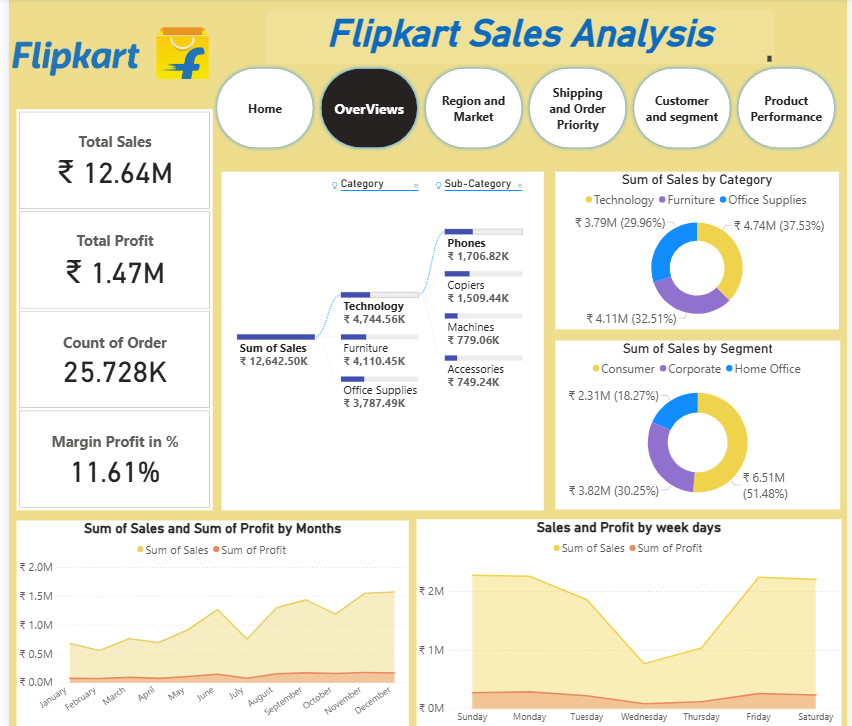

This screenshot's page, from the dashboard's own definition file:
{"tool":"powerbi","page":{"name":"OverViews ","canvas":[1600,1400],"ordinal":1},"visuals":[{"type":"pageNavigator","box":[388.9,126.4,1195.3,167],"z":0},{"type":"textbox","title":"Flipkart Sales Analysis ","box":[491.5,23.9,968.6,102.6],"z":1000},{"type":"cardVisual","fields":{"Data":["Sum(Orders.Sales)","Sum(Orders.Profit)","Count(Orders.Order ID)","Orders.margin profit %"]},"box":[14.3,212.3,374.6,765.9],"z":2000},{"type":"lineChart","fields":{"Category":["Orders.Months"],"Y":["Sum(Orders.Sales)","Sum(Orders.Profit)"]},"box":[14.3,997.3,749.2,398.4],"z":3000},{"type":"lineChart","title":"Sales and Profit by week days","fields":{"Y":["Sum(Orders.Sales)","Sum(Orders.Profit)"],"Category":["Orders.WeekDays"]},"box":[777.8,994.9,811.2,398.4],"z":4000},{"type":"donutChart","fields":{"Category":["Orders.Segment"],"Y":["Sum(Orders.Sales)"]},"box":[1042.6,653.7,544,322.1],"z":5000},{"type":"donutChart","title":"Sum of Sales by Category","fields":{"Y":["Sum(Orders.Sales)"],"Category":["Orders.Category"]},"box":[1042.6,331.6,541.6,300.6],"z":6000},{"type":"decompositionTreeVisual","fields":{"Analyze":["Sum(Orders.Sales)"],"ExplainBy":["Orders.Category","Orders.Sub-Category"]},"box":[405.6,331.6,615.5,646.6],"z":7000},{"type":"image","box":[0,0,388.9,210],"z":8000}]}

Visuals, with their boxes in screenshot pixels (x1, y1, x2, y2), scaled from the page's 1600x1400 canvas onto the 852x726 screenshot:
pageNavigator: detection(207, 66, 844, 152)
"Flipkart Sales Analysis " textbox: detection(262, 12, 778, 66)
cardVisual - Sum(Orders.Sales) x Sum(Orders.Profit): detection(8, 110, 207, 507)
lineChart - Orders.Months x Sum(Orders.Sales): detection(8, 517, 407, 724)
"Sales and Profit by week days" lineChart: detection(414, 516, 846, 723)
donutChart - Orders.Segment x Sum(Orders.Sales): detection(555, 339, 845, 506)
"Sum of Sales by Category" donutChart: detection(555, 172, 844, 328)
decompositionTreeVisual - Sum(Orders.Sales) x Orders.Category: detection(216, 172, 544, 507)
image: detection(0, 0, 207, 109)
